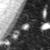node: (41, 4, 50, 20), (10, 30, 21, 41), (38, 22, 50, 32), (21, 23, 31, 32)
